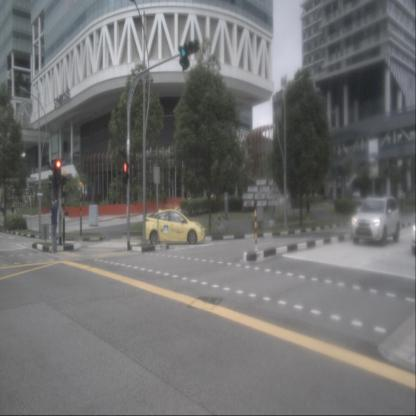human-pedestrian-adult: (49, 195, 59, 252), (12, 198, 15, 216), (2, 201, 4, 217)
vehicle-car: (352, 196, 400, 245), (144, 209, 206, 244), (411, 211, 415, 257)
